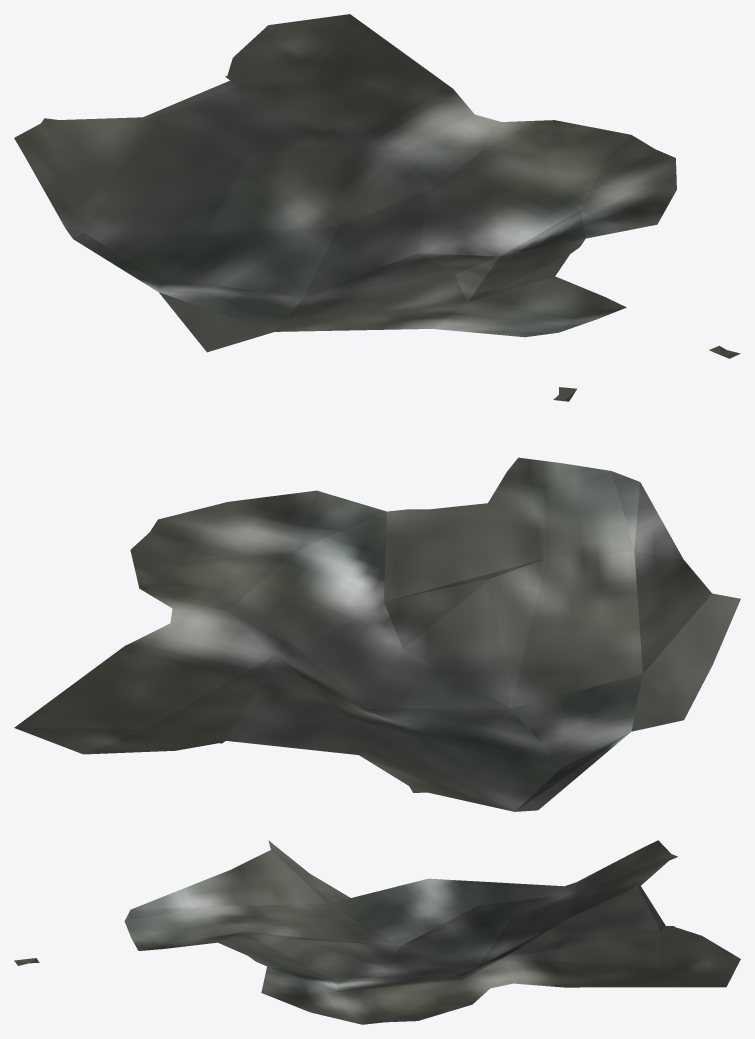
3 renders of one model, top to bottom at view 1: azimuth 30°, elevation 25°; view 2: azimuth 150°, elevation 25°; view 3: azimuth 270°, elevation 25°, orthographic. The views are drawn at different scales.
Bounding box in the file's own units: 4.09 × 0.6009 × 6.81.
1 material, 1 textured.
